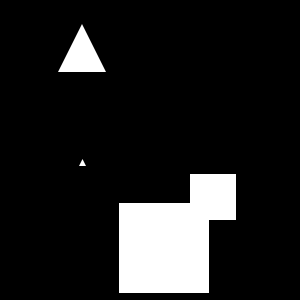circle: (119, 203, 209, 293), (190, 174, 236, 220)
triangle: (58, 24, 106, 72), (79, 159, 86, 166)
